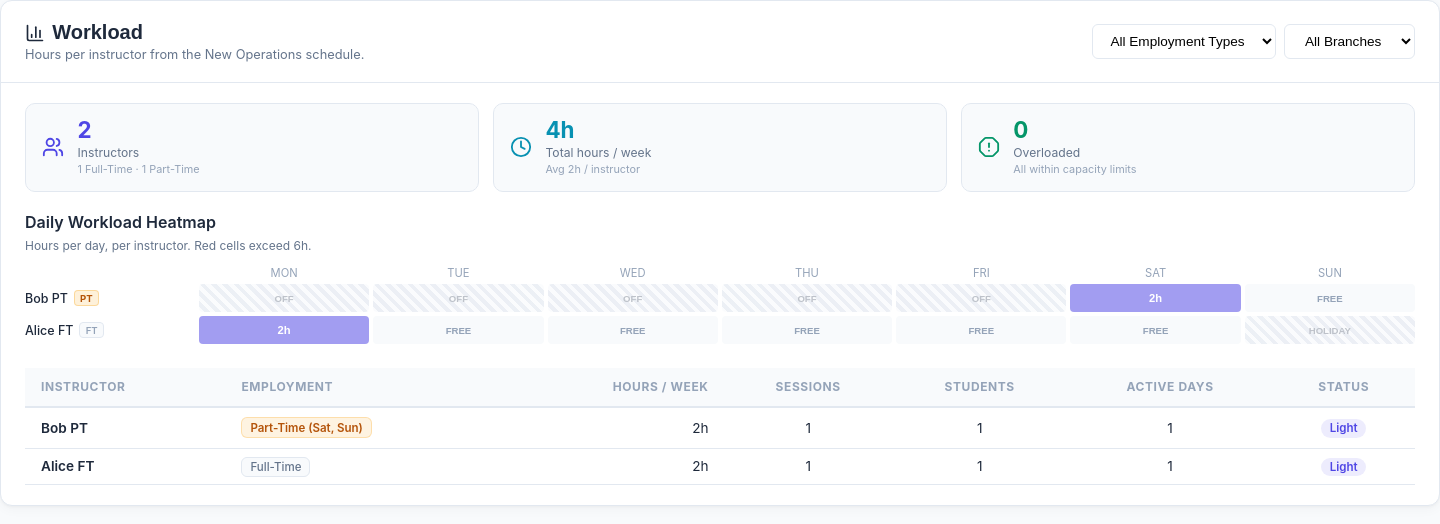
Test case: NewWorkloadPage Part-Time Instructor Support › filters instructors by employment type
# Select Part-Time Only
Select "Part-Time Only" in the 1st dropdown showing "All Employment Types": (1184, 42) x1=1092 y1=24 x2=1276 y2=59
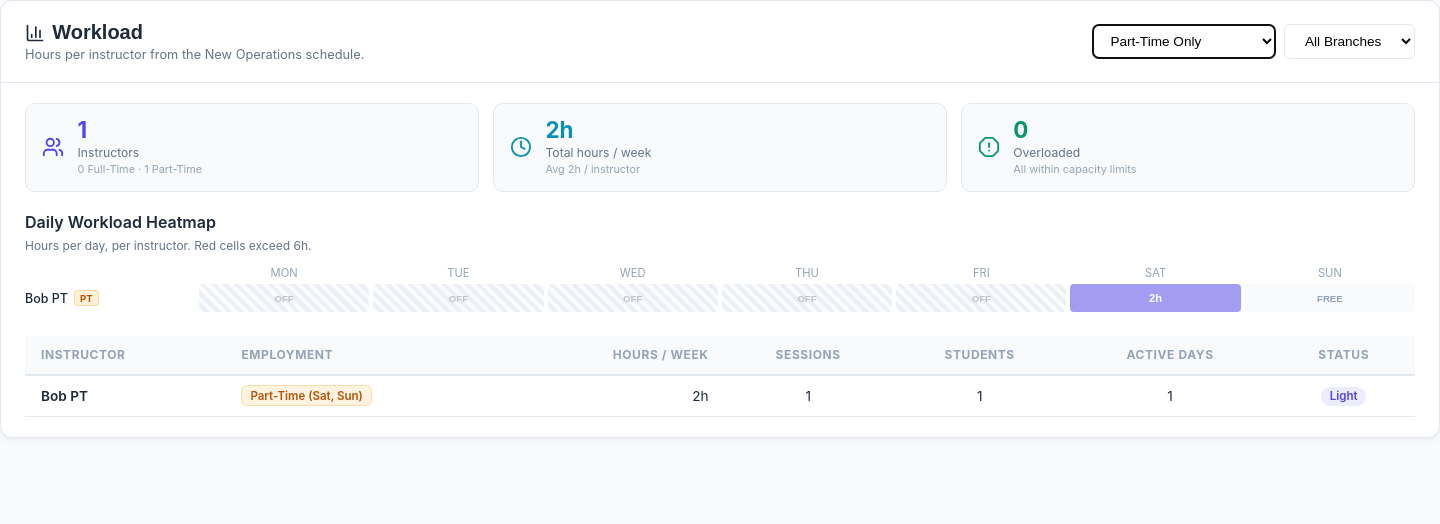
Check: the text "Bob PT" is shown, box x1=25 y1=374 x2=225 y2=416
Check: the text "Alice FT" is gone
# Select Full-Time Only
Select "Full-Time Only" in the 1st dropdown showing "All Employment Types": (1184, 42) x1=1092 y1=24 x2=1276 y2=59
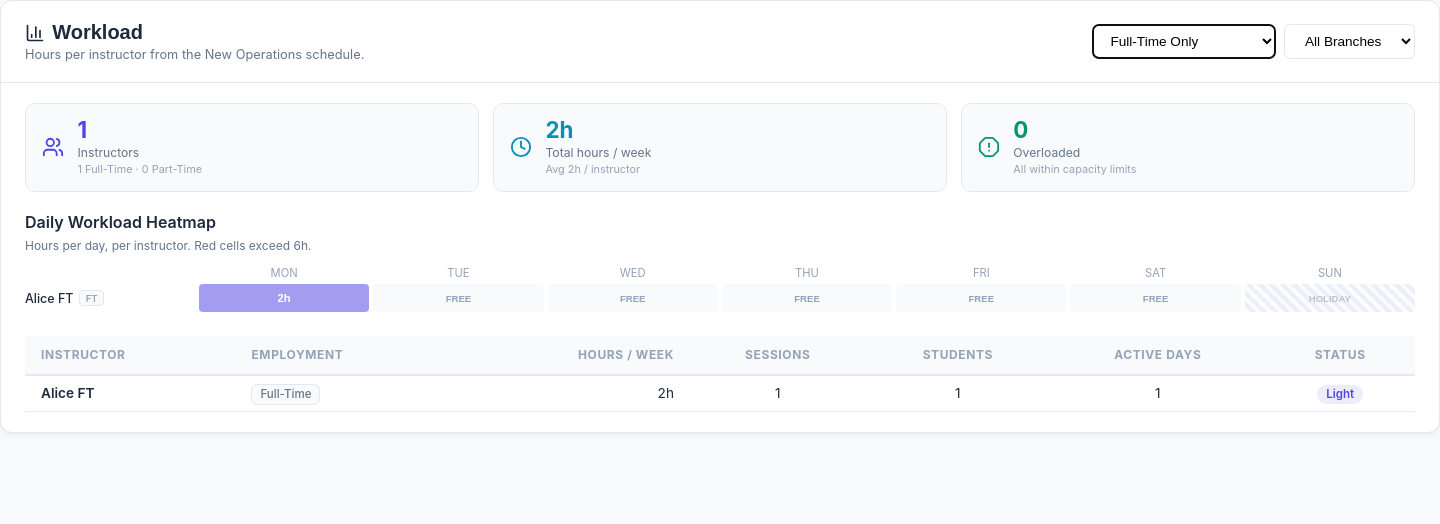
Check: the text "Alice FT" is shown, box x1=25 y1=374 x2=236 y2=411
Check: the text "Bob PT" is gone
